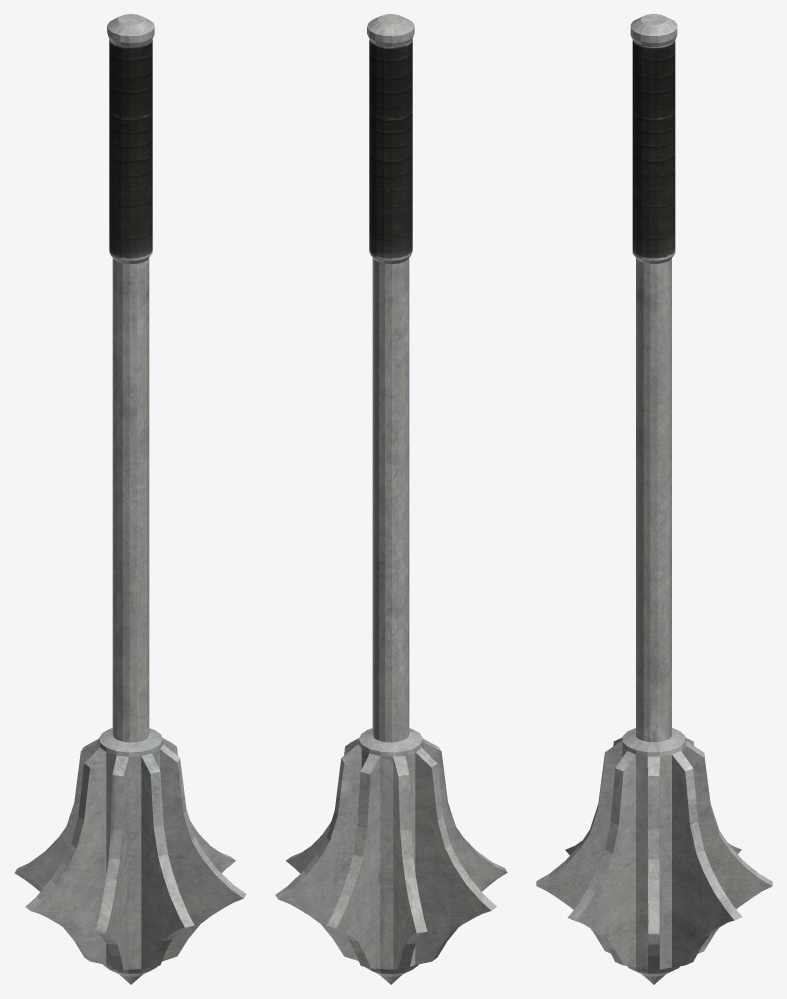
File: Mace.OBJ
3 views of the same model, side by side, from view 1: azimuth 30°, elevation 25°; view 2: azimuth 150°, elevation 25°; view 3: azimuth 270°, elevation 25° (orthographic).
Parts seen in each view (by area): view 1: Mesh_ZBrush_defualt_group; view 2: Mesh_ZBrush_defualt_group; view 3: Mesh_ZBrush_defualt_group.
Boxes of the visible parts, <box> form: Mesh_ZBrush_defualt_group: <box>14,14,246,984</box>; Mesh_ZBrush_defualt_group: <box>275,14,507,984</box>; Mesh_ZBrush_defualt_group: <box>536,14,772,984</box>.
Size of the model in its own units: 2.76 by 12.37 by 2.75.
1 material, 1 textured.
